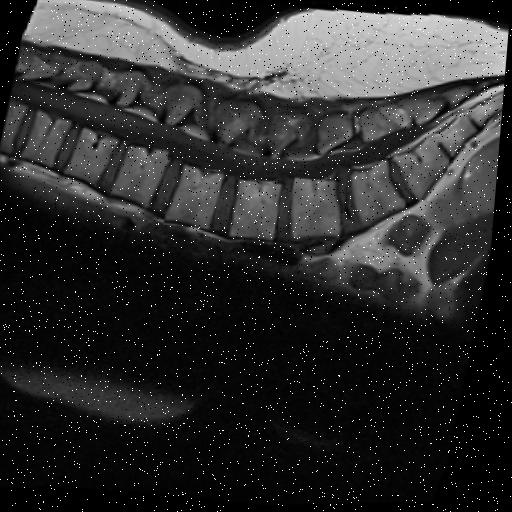L1: (115, 146, 171, 207)
L2: (169, 167, 227, 229)
L3: (234, 180, 286, 241)
L4: (296, 179, 346, 238)
L5: (356, 162, 409, 225)
S1: (396, 140, 453, 201)
